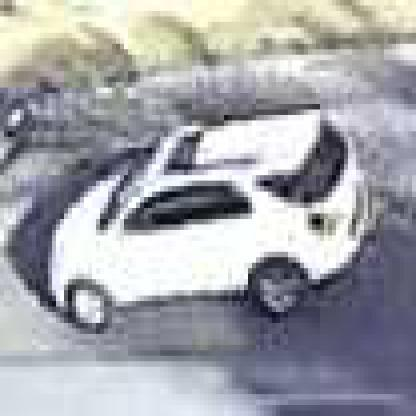car: (49, 110, 381, 324)
